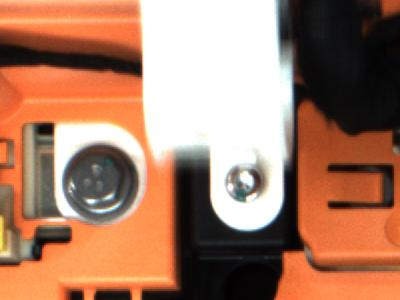nut_b: (64, 139, 138, 230)
screw_m: (225, 160, 273, 211)
